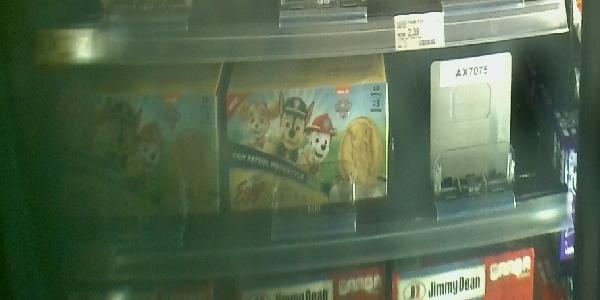icecream: (27, 66, 220, 214), (229, 83, 399, 203)
